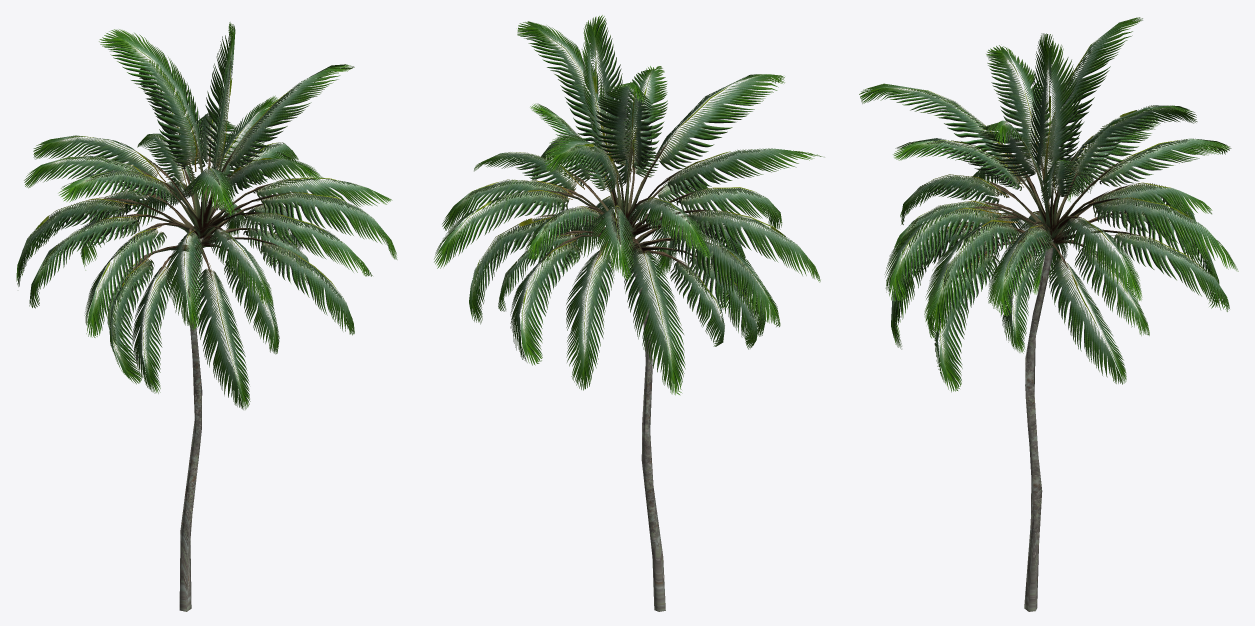
The model's file is palmeirinha.glb.
The picture shows the model from 3 angles, left to right: view 1: azimuth 30°, elevation 25°; view 2: azimuth 150°, elevation 25°; view 3: azimuth 270°, elevation 25°; orthographic projection. The views are drawn at different scales.
Visible parts, largest first — view 1: SM_MZRa_Palm_B082_MI_MZRa_Palm_B08a_0; view 2: SM_MZRa_Palm_B082_MI_MZRa_Palm_B08a_0; view 3: SM_MZRa_Palm_B082_MI_MZRa_Palm_B08a_0.
Boxes of the visible parts, x1,y1,x2,y2 form: SM_MZRa_Palm_B082_MI_MZRa_Palm_B08a_0: (16,22,397,611); SM_MZRa_Palm_B082_MI_MZRa_Palm_B08a_0: (434,15,824,611); SM_MZRa_Palm_B082_MI_MZRa_Palm_B08a_0: (859,17,1238,611).
Size of the model in its own units: 0.6349 by 1 by 0.5736.
Materials: 2 (2 with a texture image).
